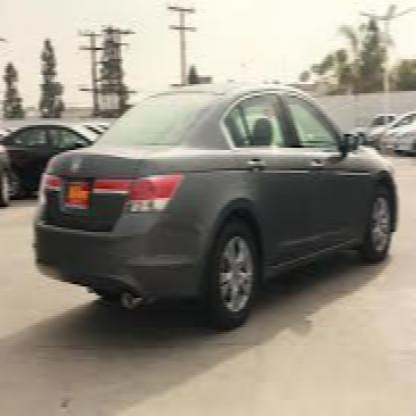Vehicle: (35, 86, 398, 330)
